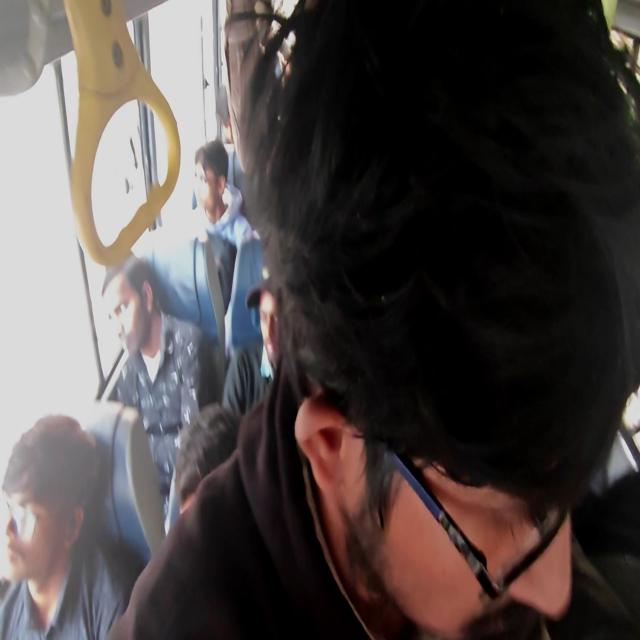person: (288, 37, 559, 608), (93, 264, 212, 424), (17, 452, 92, 588), (176, 421, 242, 555), (246, 285, 296, 382), (195, 160, 241, 235), (210, 91, 249, 142)
